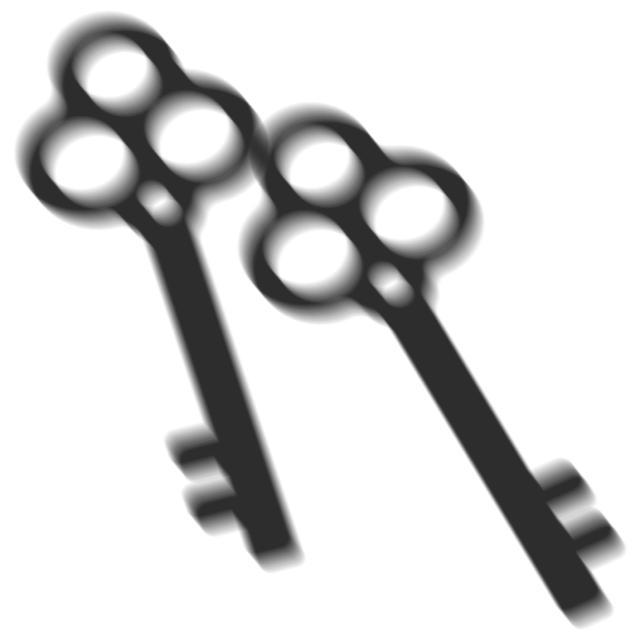key: (219, 96, 637, 638), (7, 7, 313, 584)
